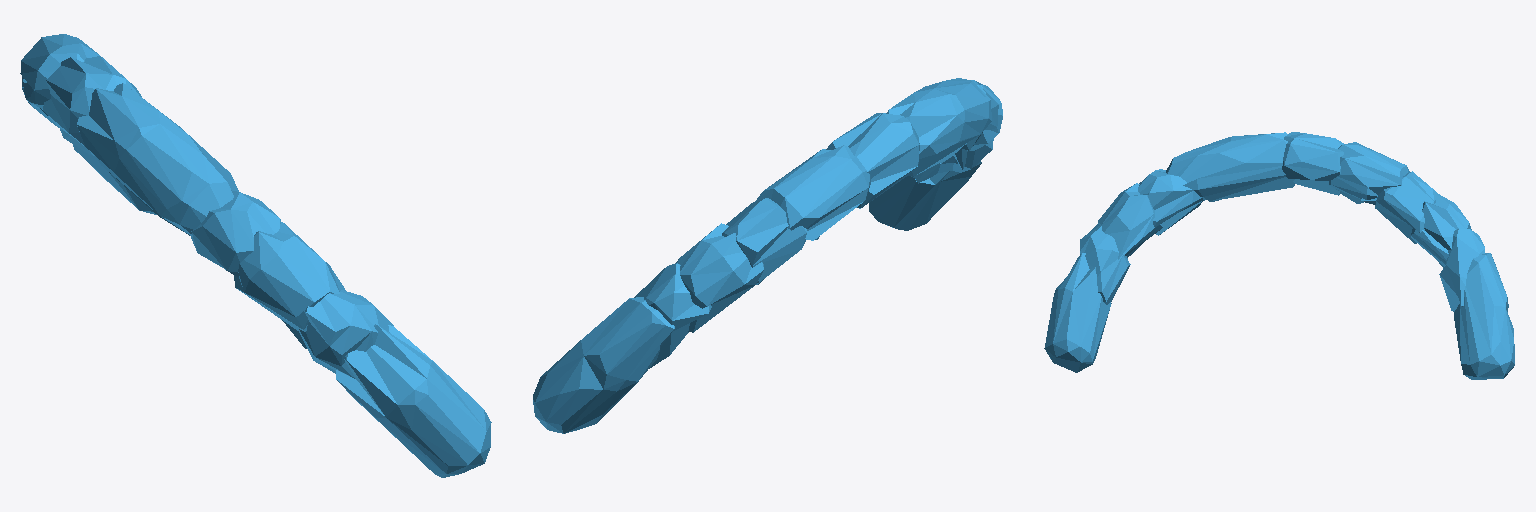
robot.urdf — partnet_43bcea066d246875d3cce5e618a132d2:
<?xml version="1.0" ?><robot name="partnet_43bcea066d246875d3cce5e618a132d2">
	<link name="base"/>
	<link name="link_0">
		<visual>
			<origin xyz="-0.697204072257674 -0.6233420283550798 -0.1465688117922868"/>
			<geometry>
				<mesh filename="new_objs/100444_link_0_11.obj"/>
			</geometry>
		</visual>
	<visual>
			<origin xyz="-0.697204072257674 -0.6233420283550798 -0.1465688117922868"/>
			<geometry>
				<mesh filename="new_objs/100444_link_0_5.obj"/>
			</geometry>
		</visual>
	<visual>
			<origin xyz="-0.697204072257674 -0.6233420283550798 -0.1465688117922868"/>
			<geometry>
				<mesh filename="new_objs/100444_link_0_8.obj"/>
			</geometry>
		</visual>
	<visual>
			<origin xyz="-0.697204072257674 -0.6233420283550798 -0.1465688117922868"/>
			<geometry>
				<mesh filename="new_objs/100444_link_0_10.obj"/>
			</geometry>
		</visual>
	<visual>
			<origin xyz="-0.697204072257674 -0.6233420283550798 -0.1465688117922868"/>
			<geometry>
				<mesh filename="new_objs/100444_link_0_12.obj"/>
			</geometry>
		</visual>
	<visual>
			<origin xyz="-0.697204072257674 -0.6233420283550798 -0.1465688117922868"/>
			<geometry>
				<mesh filename="new_objs/100444_link_0_0.obj"/>
			</geometry>
		</visual>
	<visual>
			<origin xyz="-0.697204072257674 -0.6233420283550798 -0.1465688117922868"/>
			<geometry>
				<mesh filename="new_objs/100444_link_0_2.obj"/>
			</geometry>
		</visual>
	<visual>
			<origin xyz="-0.697204072257674 -0.6233420283550798 -0.1465688117922868"/>
			<geometry>
				<mesh filename="new_objs/100444_link_0_4.obj"/>
			</geometry>
		</visual>
	<visual>
			<origin xyz="-0.697204072257674 -0.6233420283550798 -0.1465688117922868"/>
			<geometry>
				<mesh filename="new_objs/100444_link_0_7.obj"/>
			</geometry>
		</visual>
	<visual>
			<origin xyz="-0.697204072257674 -0.6233420283550798 -0.1465688117922868"/>
			<geometry>
				<mesh filename="new_objs/100444_link_0_9.obj"/>
			</geometry>
		</visual>
	<visual>
			<origin xyz="-0.697204072257674 -0.6233420283550798 -0.1465688117922868"/>
			<geometry>
				<mesh filename="new_objs/100444_link_0_6.obj"/>
			</geometry>
		</visual>
	<visual>
			<origin xyz="-0.697204072257674 -0.6233420283550798 -0.1465688117922868"/>
			<geometry>
				<mesh filename="new_objs/100444_link_0_3.obj"/>
			</geometry>
		</visual>
	<visual>
			<origin xyz="-0.697204072257674 -0.6233420283550798 -0.1465688117922868"/>
			<geometry>
				<mesh filename="new_objs/100444_link_0_1.obj"/>
			</geometry>
		</visual>
	
		<collision>
			<origin xyz="-0.697204072257674 -0.6233420283550798 -0.1465688117922868"/>
			<geometry>
				<mesh filename="new_objs/100444_link_0_11.obj"/>
			</geometry>
		</collision><collision>
			<origin xyz="-0.697204072257674 -0.6233420283550798 -0.1465688117922868"/>
			<geometry>
				<mesh filename="new_objs/100444_link_0_5.obj"/>
			</geometry>
		</collision><collision>
			<origin xyz="-0.697204072257674 -0.6233420283550798 -0.1465688117922868"/>
			<geometry>
				<mesh filename="new_objs/100444_link_0_8.obj"/>
			</geometry>
		</collision><collision>
			<origin xyz="-0.697204072257674 -0.6233420283550798 -0.1465688117922868"/>
			<geometry>
				<mesh filename="new_objs/100444_link_0_10.obj"/>
			</geometry>
		</collision><collision>
			<origin xyz="-0.697204072257674 -0.6233420283550798 -0.1465688117922868"/>
			<geometry>
				<mesh filename="new_objs/100444_link_0_12.obj"/>
			</geometry>
		</collision><collision>
			<origin xyz="-0.697204072257674 -0.6233420283550798 -0.1465688117922868"/>
			<geometry>
				<mesh filename="new_objs/100444_link_0_0.obj"/>
			</geometry>
		</collision><collision>
			<origin xyz="-0.697204072257674 -0.6233420283550798 -0.1465688117922868"/>
			<geometry>
				<mesh filename="new_objs/100444_link_0_2.obj"/>
			</geometry>
		</collision><collision>
			<origin xyz="-0.697204072257674 -0.6233420283550798 -0.1465688117922868"/>
			<geometry>
				<mesh filename="new_objs/100444_link_0_4.obj"/>
			</geometry>
		</collision><collision>
			<origin xyz="-0.697204072257674 -0.6233420283550798 -0.1465688117922868"/>
			<geometry>
				<mesh filename="new_objs/100444_link_0_7.obj"/>
			</geometry>
		</collision><collision>
			<origin xyz="-0.697204072257674 -0.6233420283550798 -0.1465688117922868"/>
			<geometry>
				<mesh filename="new_objs/100444_link_0_9.obj"/>
			</geometry>
		</collision><collision>
			<origin xyz="-0.697204072257674 -0.6233420283550798 -0.1465688117922868"/>
			<geometry>
				<mesh filename="new_objs/100444_link_0_6.obj"/>
			</geometry>
		</collision><collision>
			<origin xyz="-0.697204072257674 -0.6233420283550798 -0.1465688117922868"/>
			<geometry>
				<mesh filename="new_objs/100444_link_0_3.obj"/>
			</geometry>
		</collision><collision>
			<origin xyz="-0.697204072257674 -0.6233420283550798 -0.1465688117922868"/>
			<geometry>
				<mesh filename="new_objs/100444_link_0_1.obj"/>
			</geometry>
		</collision></link>
	<joint name="joint_0" type="revolute">
		<origin xyz="0.697204072257674 0.6233420283550798 0.1465688117922868"/>
		<axis xyz="-0.9967678271779701 2.1692584299051953e-06 -0.08033616058913251"/>
		<child link="link_0"/>
		<parent link="link_1"/>
		<limit lower="0.504" upper="2.181661564992912"/>
	</joint>
	<link name="link_1">
		<collision>
			<origin xyz="0 0 0"/>
			<geometry>
				<mesh filename="new_objs/100444_link_1_11.obj"/>
			</geometry>
		</collision>
		<collision>
			<origin xyz="0 0 0"/>
			<geometry>
				<mesh filename="new_objs/100444_link_1_9.obj"/>
			</geometry>
		</collision>
		<collision>
			<origin xyz="0 0 0"/>
			<geometry>
				<mesh filename="new_objs/100444_link_1_2.obj"/>
			</geometry>
		</collision>
		<collision>
			<origin xyz="0 0 0"/>
			<geometry>
				<mesh filename="new_objs/100444_link_1_18.obj"/>
			</geometry>
		</collision>
		<collision>
			<origin xyz="0 0 0"/>
			<geometry>
				<mesh filename="new_objs/100444_link_1_19.obj"/>
			</geometry>
		</collision>
		<collision>
			<origin xyz="0 0 0"/>
			<geometry>
				<mesh filename="new_objs/100444_link_1_1.obj"/>
			</geometry>
		</collision>
		<collision>
			<origin xyz="0 0 0"/>
			<geometry>
				<mesh filename="new_objs/100444_link_1_21.obj"/>
			</geometry>
		</collision>
		<collision>
			<origin xyz="0 0 0"/>
			<geometry>
				<mesh filename="new_objs/100444_link_1_20.obj"/>
			</geometry>
		</collision>
		<collision>
			<origin xyz="0 0 0"/>
			<geometry>
				<mesh filename="new_objs/100444_link_1_15.obj"/>
			</geometry>
		</collision>
		<collision>
			<origin xyz="0 0 0"/>
			<geometry>
				<mesh filename="new_objs/100444_link_1_3.obj"/>
			</geometry>
		</collision>
		<collision>
			<origin xyz="0 0 0"/>
			<geometry>
				<mesh filename="new_objs/100444_link_1_22.obj"/>
			</geometry>
		</collision>
		<collision>
			<origin xyz="0 0 0"/>
			<geometry>
				<mesh filename="new_objs/100444_link_1_16.obj"/>
			</geometry>
		</collision>
		<collision>
			<origin xyz="0 0 0"/>
			<geometry>
				<mesh filename="new_objs/100444_link_1_23.obj"/>
			</geometry>
		</collision>
		<collision>
			<origin xyz="0 0 0"/>
			<geometry>
				<mesh filename="new_objs/100444_link_1_10.obj"/>
			</geometry>
		</collision>
		<collision>
			<origin xyz="0 0 0"/>
			<geometry>
				<mesh filename="new_objs/100444_link_1_12.obj"/>
			</geometry>
		</collision>
		<collision>
			<origin xyz="0 0 0"/>
			<geometry>
				<mesh filename="new_objs/100444_link_1_5.obj"/>
			</geometry>
		</collision>
		<collision>
			<origin xyz="0 0 0"/>
			<geometry>
				<mesh filename="new_objs/100444_link_1_17.obj"/>
			</geometry>
		</collision>
		<collision>
			<origin xyz="0 0 0"/>
			<geometry>
				<mesh filename="new_objs/100444_link_1_13.obj"/>
			</geometry>
		</collision>
		<collision>
			<origin xyz="0 0 0"/>
			<geometry>
				<mesh filename="new_objs/100444_link_1_14.obj"/>
			</geometry>
		</collision>
		<collision>
			<origin xyz="0 0 0"/>
			<geometry>
				<mesh filename="new_objs/100444_link_1_4.obj"/>
			</geometry>
		</collision>
		<collision>
			<origin xyz="0 0 0"/>
			<geometry>
				<mesh filename="new_objs/100444_link_1_0.obj"/>
			</geometry>
		</collision>
		<collision>
			<origin xyz="0 0 0"/>
			<geometry>
				<mesh filename="new_objs/100444_link_1_7.obj"/>
			</geometry>
		</collision>
		<collision>
			<origin xyz="0 0 0"/>
			<geometry>
				<mesh filename="new_objs/100444_link_1_6.obj"/>
			</geometry>
		</collision>
		<collision>
			<origin xyz="0 0 0"/>
			<geometry>
				<mesh filename="new_objs/100444_link_1_8.obj"/>
			</geometry>
		</collision>
		<visual name="base_body-part[&quot;id]">
			<origin xyz="0 0 0"/>
			<geometry>
				<mesh filename="textured_objs/original-2.obj"/>
			</geometry>
		</visual>
		<visual name="base_body-part[&quot;id]">
			<origin xyz="0 0 0"/>
			<geometry>
				<mesh filename="textured_objs/original-1.obj"/>
			</geometry>
		</visual>
		</link>
	<joint name="joint_1" type="fixed">
		<origin rpy="1.570796326794897 0 -1.570796326794897" xyz="0 0 0"/>
		<child link="link_1"/>
		<parent link="base"/>
	</joint>
</robot>

--- Facts derived from the render (not from the file) ---
Views: 3 orthographic renders of the robot side by side, from view 1: azimuth 30°, elevation 25°; view 2: azimuth 150°, elevation 25°; view 3: azimuth 270°, elevation 25°.
Model partnet_43bcea066d246875d3cce5e618a132d2 with 3 links and 2 joints (1 revolute, 1 fixed), rooted at base, posed joints at zero except 1 at the middle of their limits (joint_0 = 1.34).
Visible links, largest first — view 1: link_0; view 2: link_0; view 3: link_0.
Boxes of the visible links, x1,y1,x2,y2 form: link_0: (20, 34, 491, 477); link_0: (533, 78, 1002, 433); link_0: (1044, 132, 1514, 379).
Size in the robot's own frame: 0.6664 by 1.59 by 0.6824 metres.
13 mesh visuals loaded from 15 distinct referenced files (13 OBJ); not drawn: 2 (reference not matched to a file when rendering).
